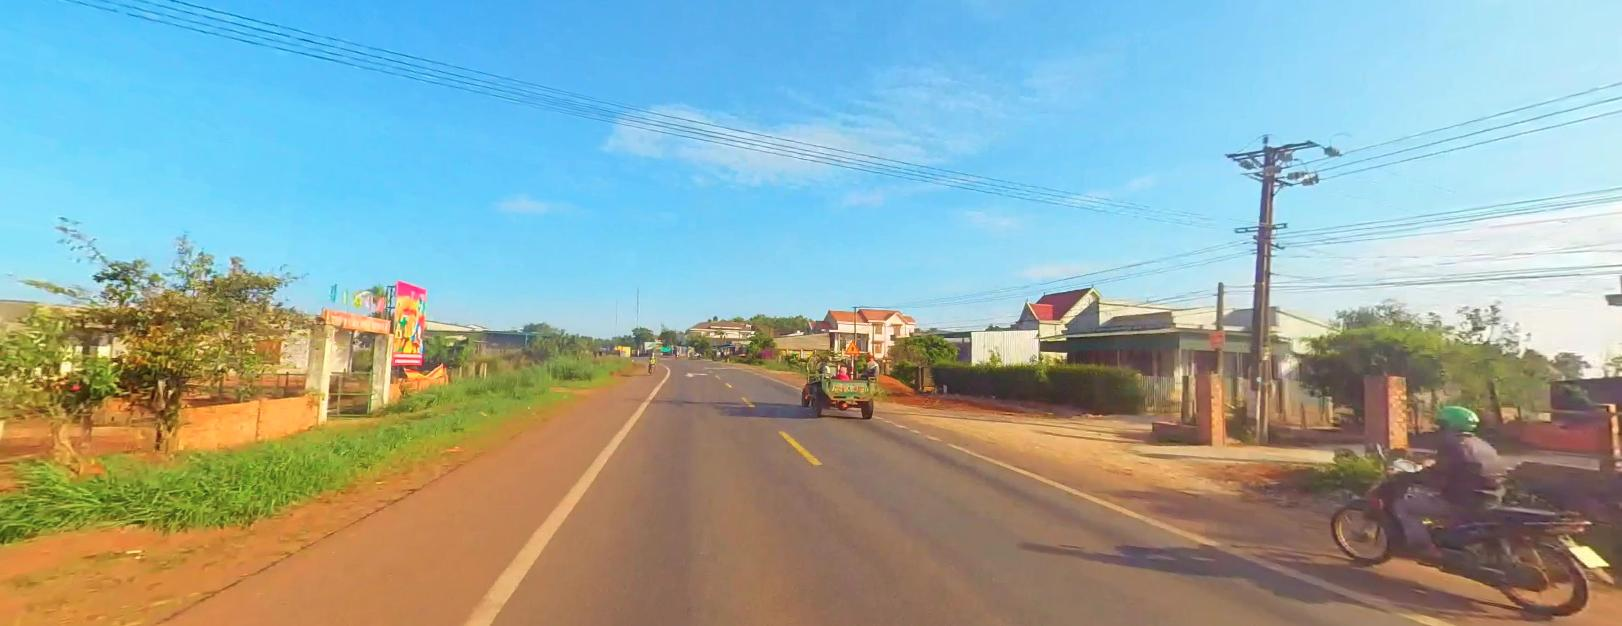Nguy hiem: (844, 339, 860, 353)
